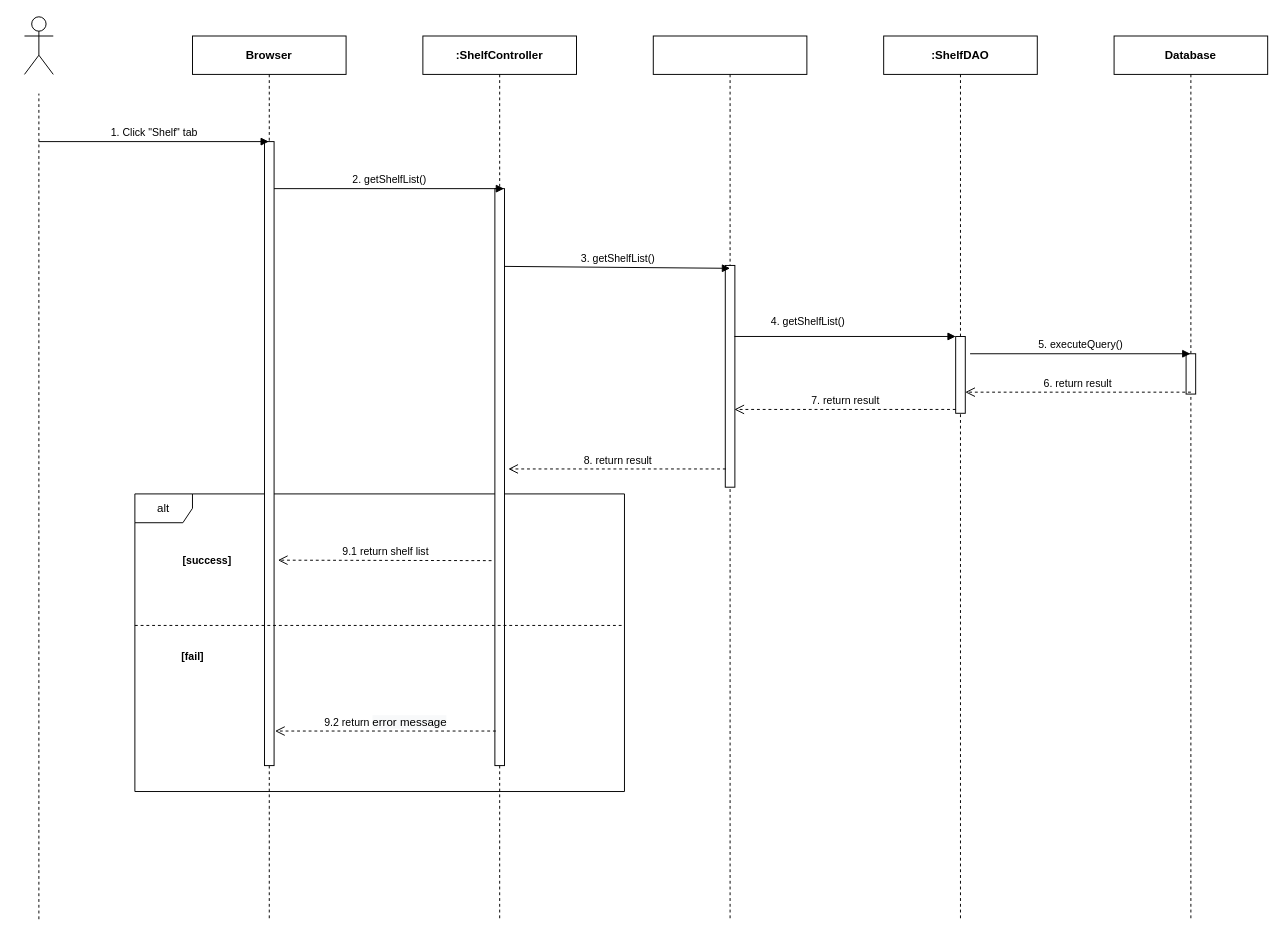
This 1284x937 diagram has some shape labels left out. Here are the shapes that lost their labels. From the top down, the centre of each, then its label:
point (38, 45): Manager
point (729, 477): :ShelfService
